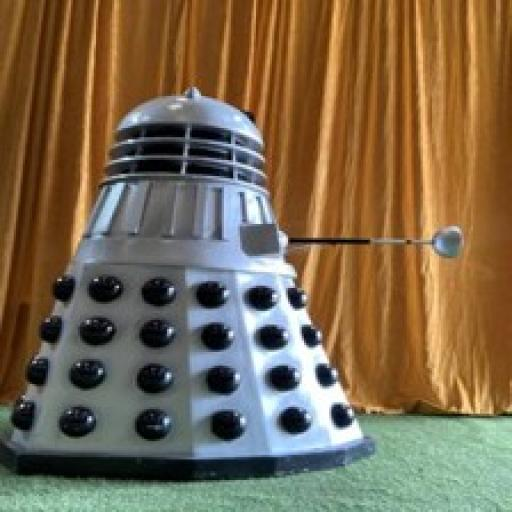dalek: (0, 90, 470, 476)
